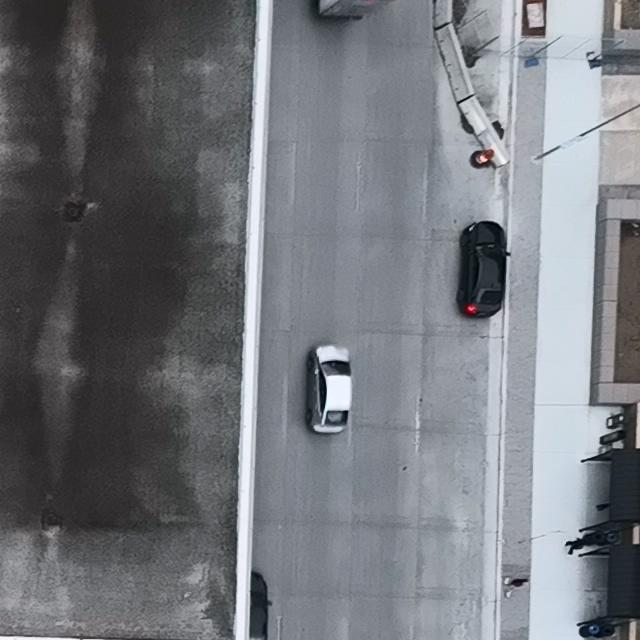car: (455, 220, 513, 316), (304, 343, 353, 435), (249, 572, 272, 640)
